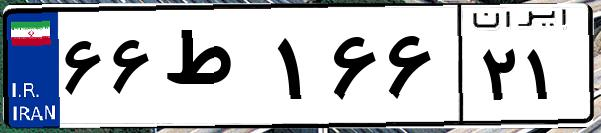1: (270, 28, 330, 110), (525, 38, 570, 115)
2: (475, 38, 525, 113)
6: (385, 28, 445, 110), (330, 28, 385, 110), (57, 26, 110, 100), (110, 28, 158, 98)
ط: (158, 20, 270, 120)
